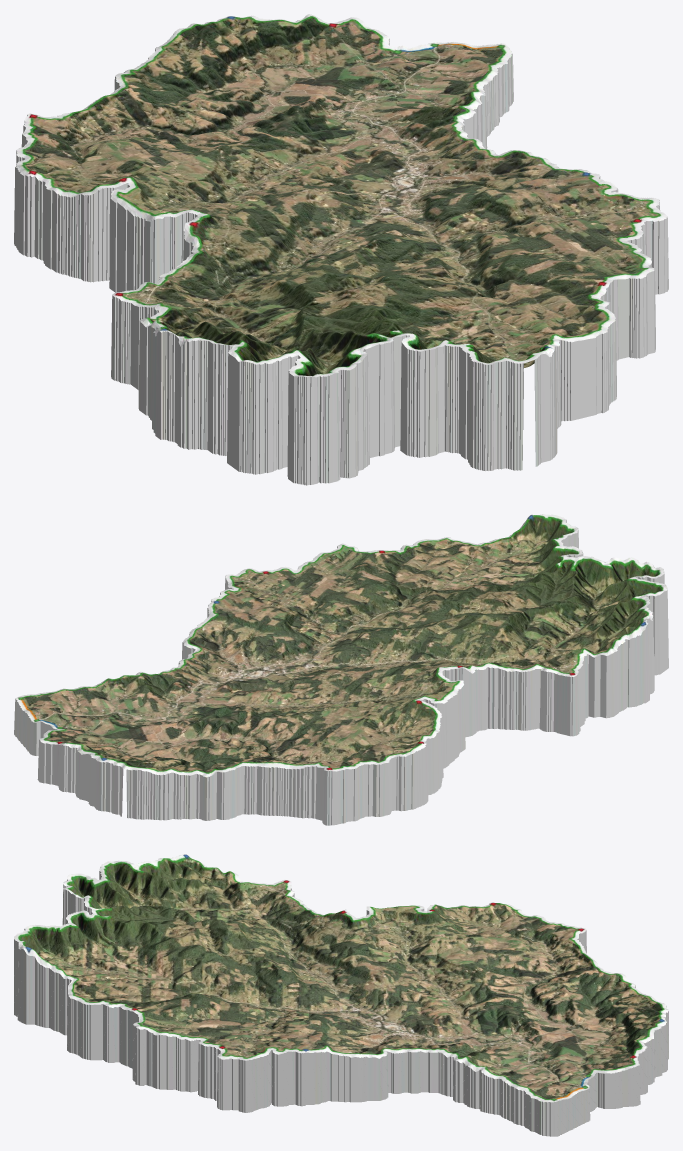
3 views of the same model, one above another, from view 1: azimuth 30°, elevation 25°; view 2: azimuth 150°, elevation 25°; view 3: azimuth 270°, elevation 25° (orthographic). The views are drawn at different scales.
Size of the model in its own units: 1 by 0.1732 by 1.33.
Materials: 1 (1 with a texture image).
